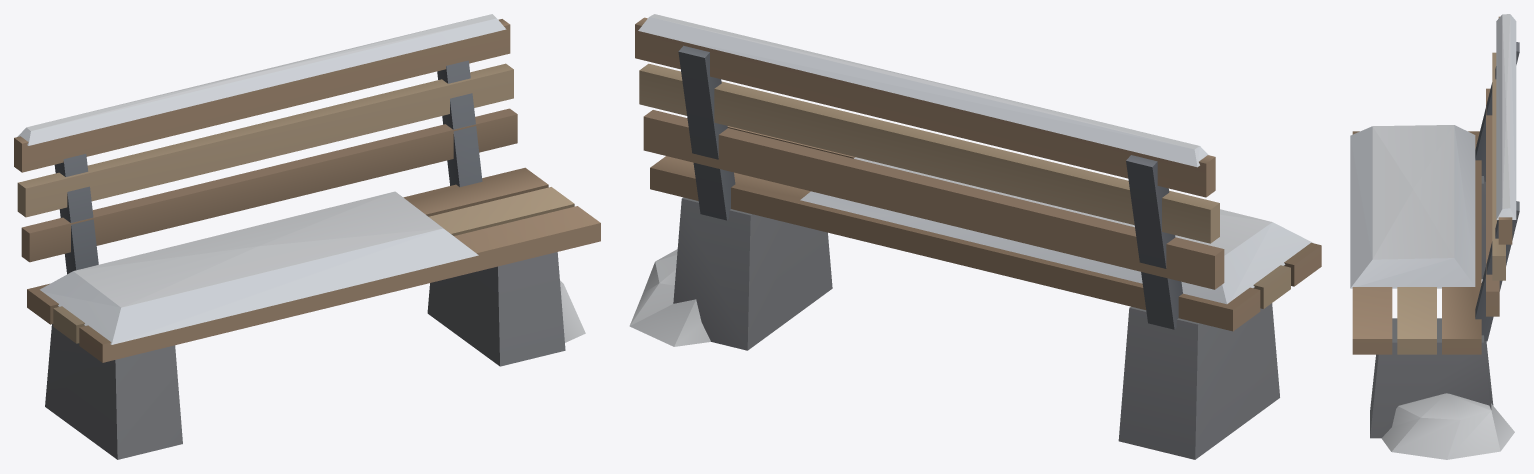
File: bench.lod1.glb
3 renders of one model, left to right at view 1: azimuth 30°, elevation 25°; view 2: azimuth 150°, elevation 25°; view 3: azimuth 270°, elevation 25°, orthographic. The views are drawn at different scales.
Size of the model in its own units: 2.09 by 1.05 by 0.6842.
